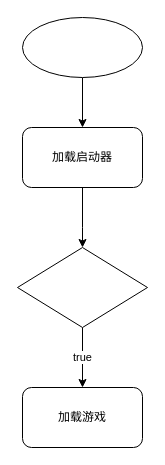
This 165x465 diagram has some shape labels left out. Here are the shapes that lost their labels. From the top down, the centre of each, then its label:
At [82,47]: "启动GCALauncher".
At [82,287]: "点击开始游戏".
